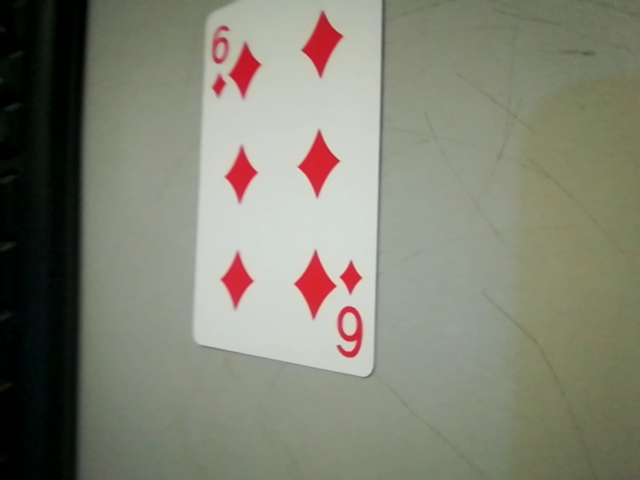fk 6: (324, 257, 375, 370)
